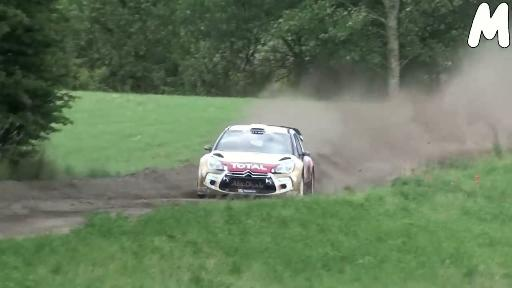CAR: (190, 109, 323, 208)
